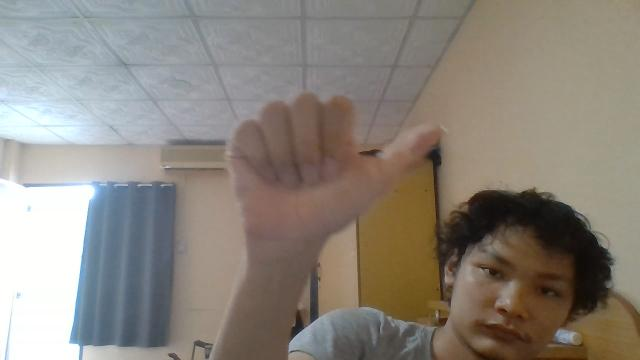left: (223, 90, 444, 268)
